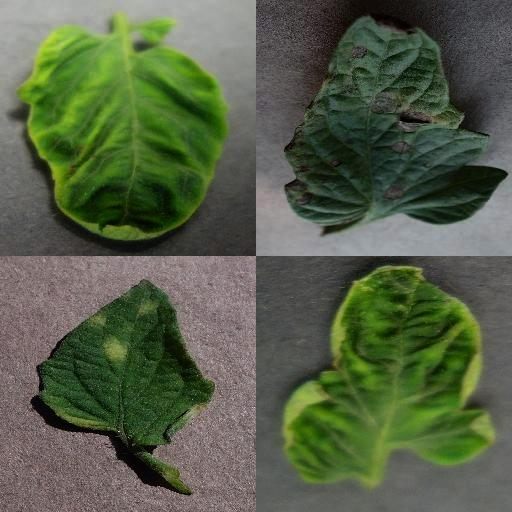Early Blight: (284, 13, 506, 225)
Leaf Mold: (39, 280, 215, 448)
Yellow Leaf Curl Virus: (284, 264, 497, 488), (18, 29, 228, 243)
